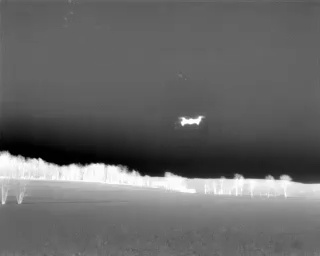DRONE: (173, 109, 209, 132)
